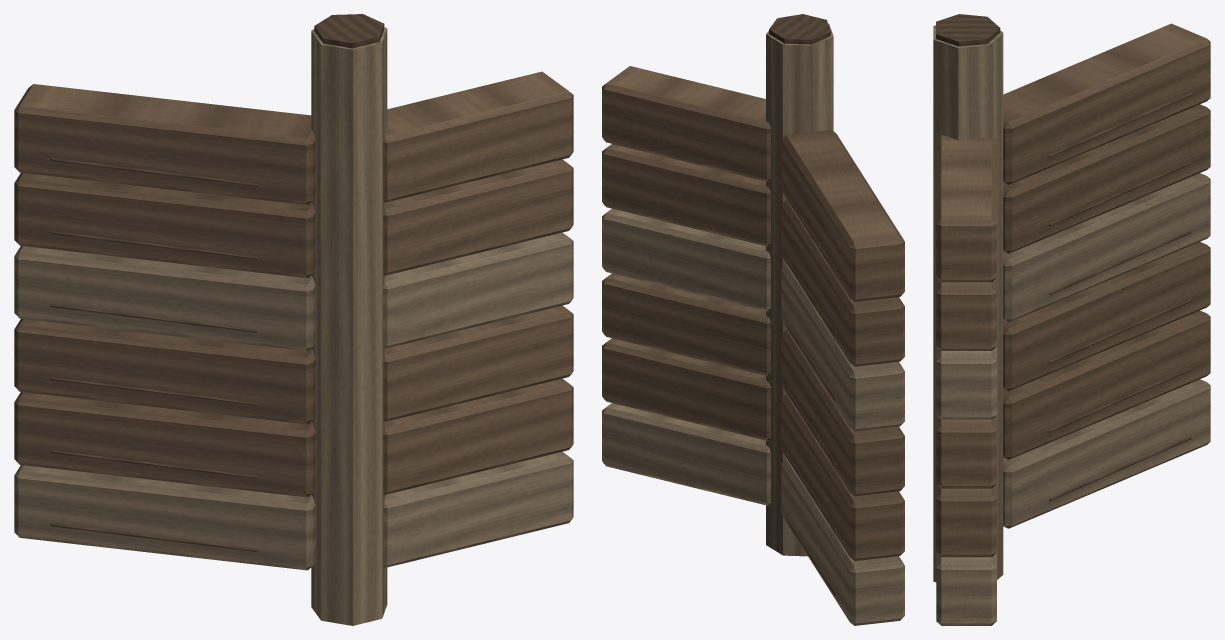
The model's file is wall_mask_36.glb.
3 renders of one model, left to right at view 1: azimuth 30°, elevation 25°; view 2: azimuth 150°, elevation 25°; view 3: azimuth 270°, elevation 25°, orthographic. The views are drawn at different scales.
Visible parts, largest first — view 1: Weathered timber, Timber worn edges, Dark endgrain; view 2: Weathered timber, Timber worn edges, Dark endgrain; view 3: Weathered timber, Timber worn edges, Dark endgrain.
Boxes of the visible parts, <box> form: Weathered timber: <box>14,71,573,497</box>; Timber worn edges: <box>14,27,573,625</box>; Dark endgrain: <box>50,14,384,551</box>; Weathered timber: <box>602,66,904,561</box>; Timber worn edges: <box>602,23,904,625</box>; Dark endgrain: <box>769,14,836,595</box>; Weathered timber: <box>936,23,1210,557</box>; Timber worn edges: <box>933,25,1210,625</box>; Dark endgrain: <box>936,14,1191,501</box>.
Bounding box in the file's own units: 1.09 × 1.39 × 0.64.
Materials: 3 (3 with a texture image).
